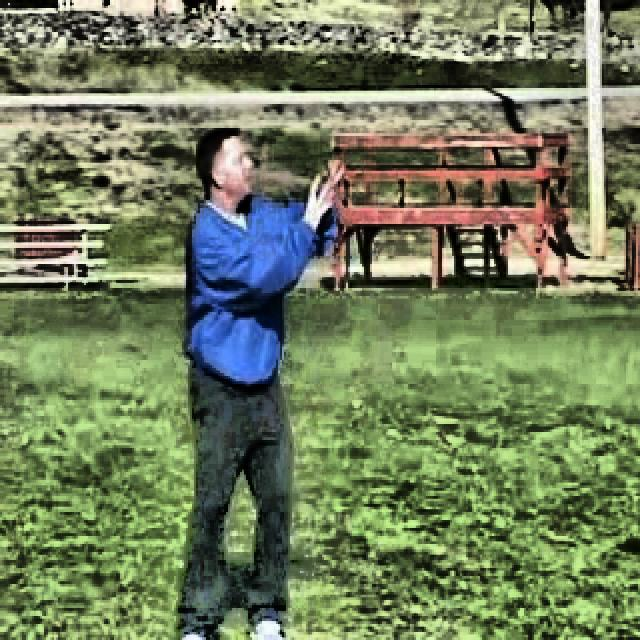I: (174, 126, 365, 640)
